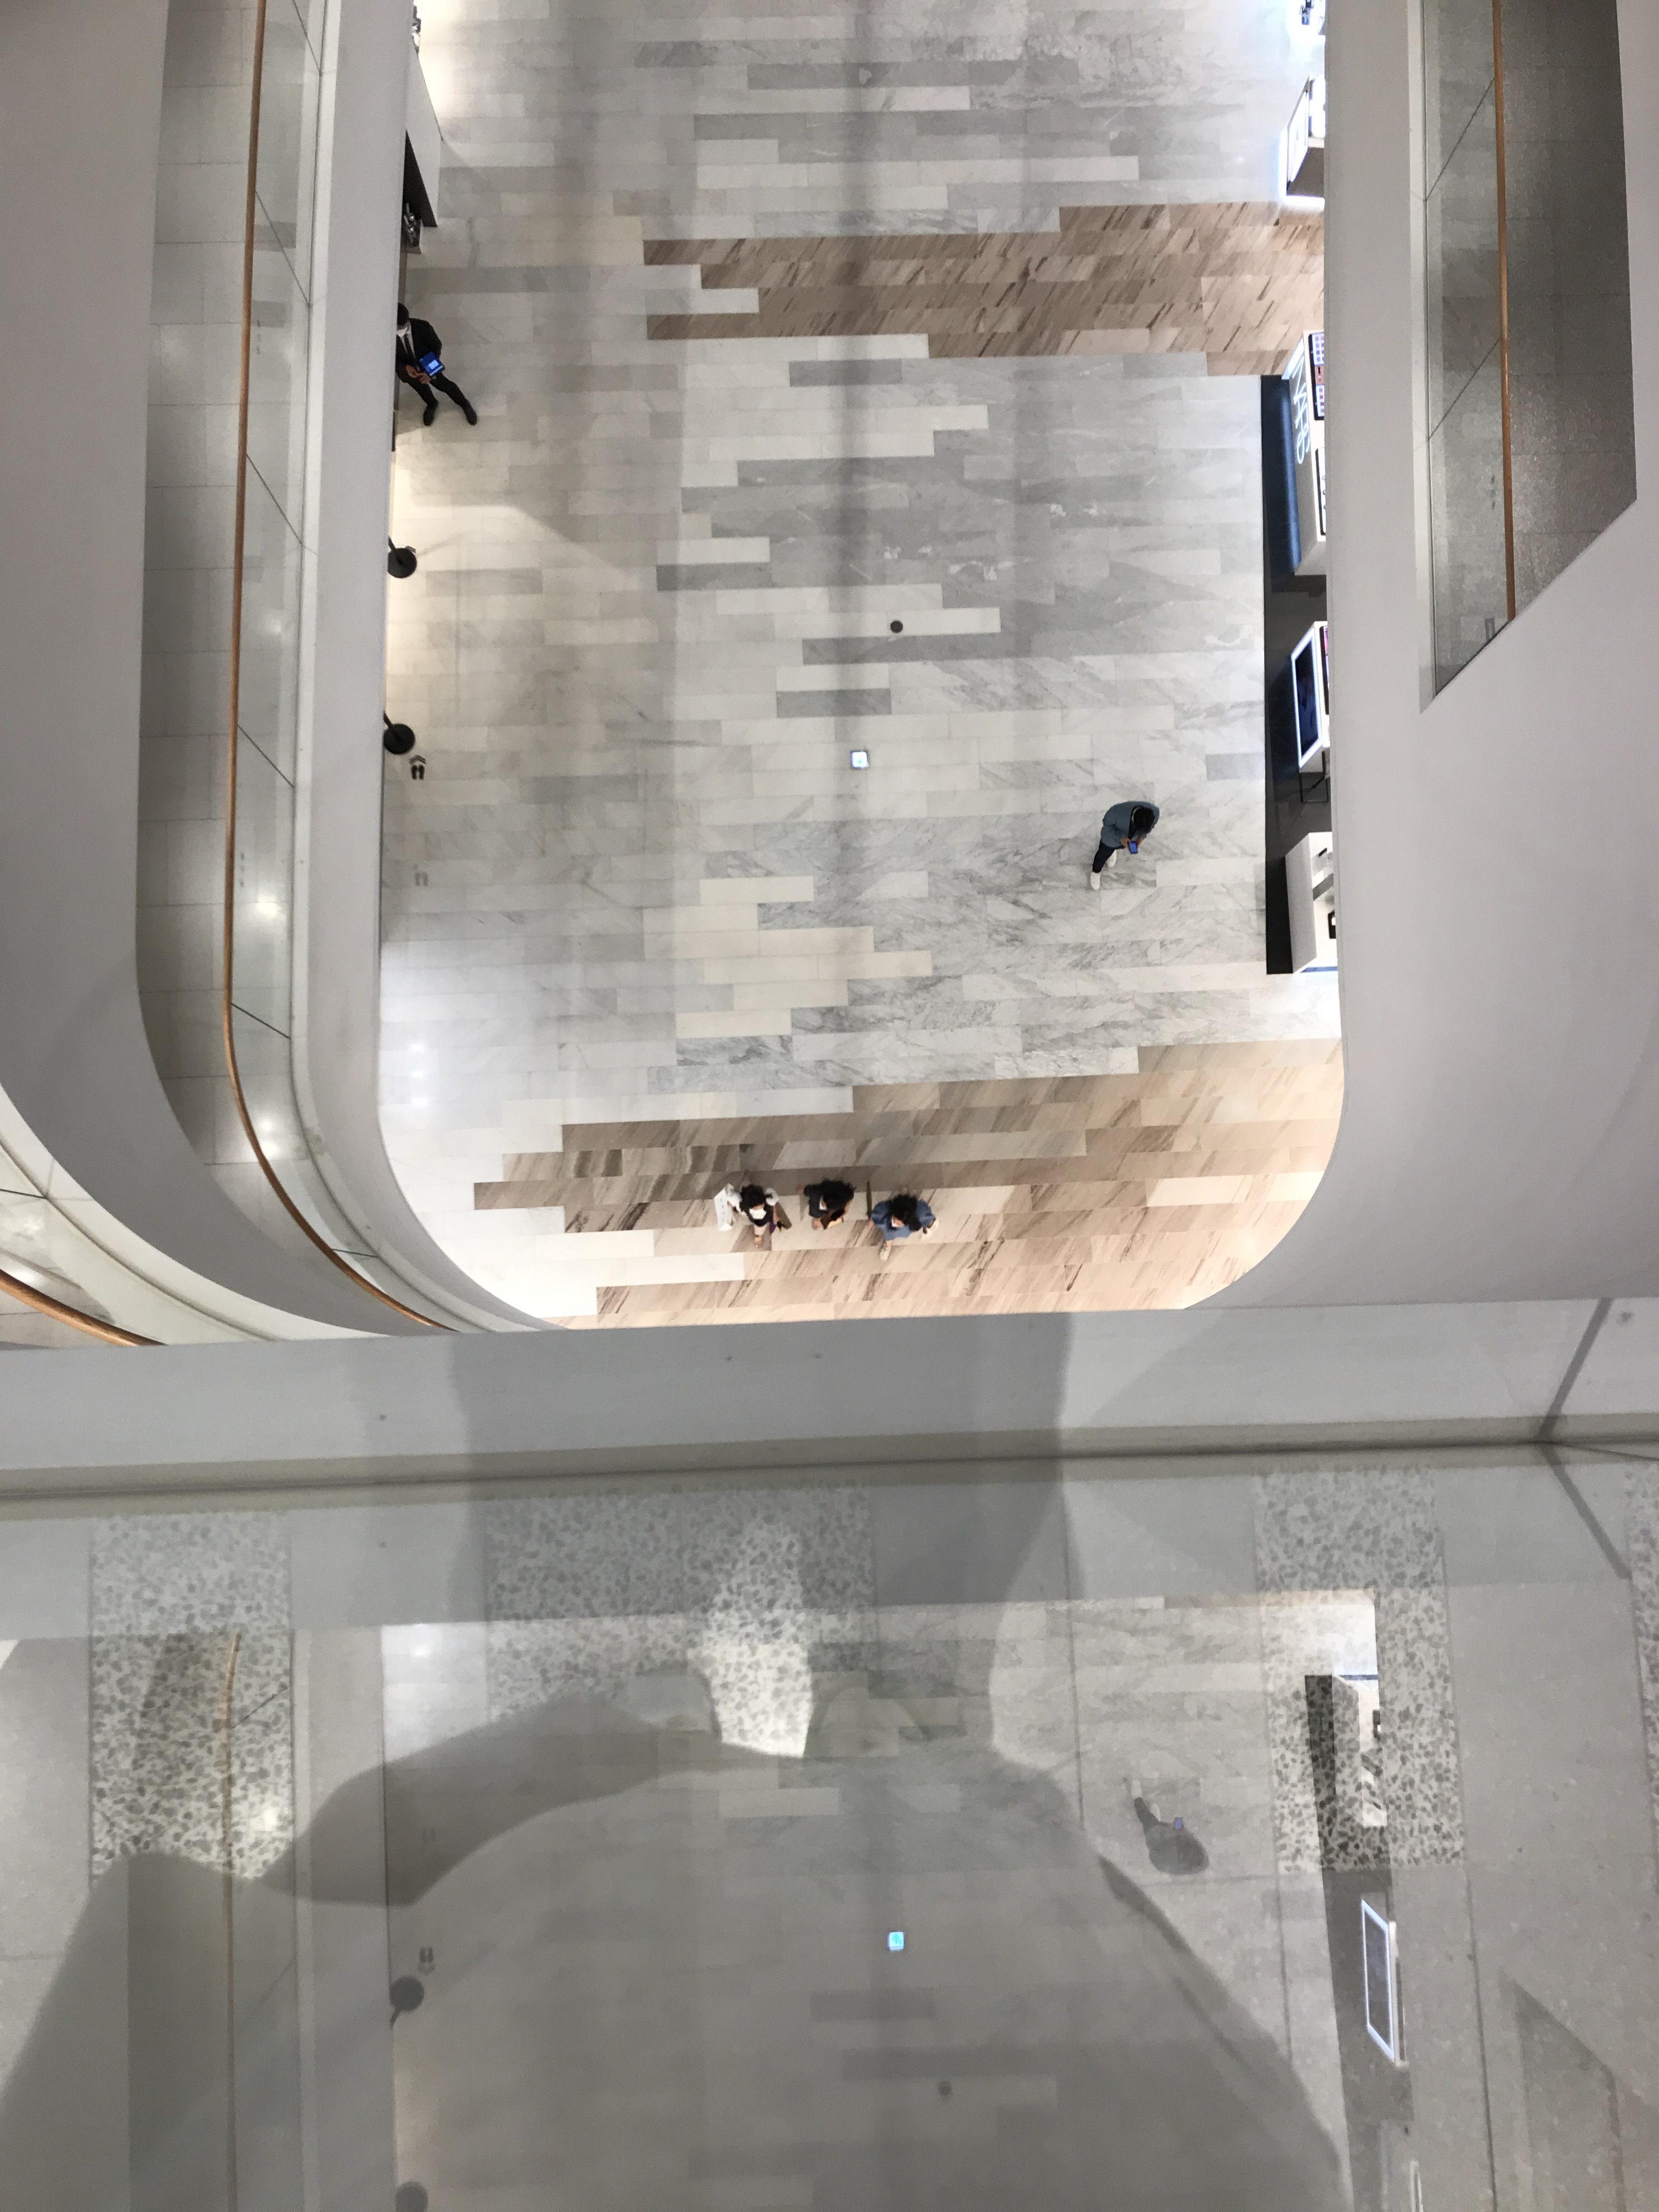person: (385, 301, 484, 432), (1086, 798, 1164, 896), (864, 1188, 941, 1264), (723, 1181, 785, 1250), (794, 1179, 859, 1232)
